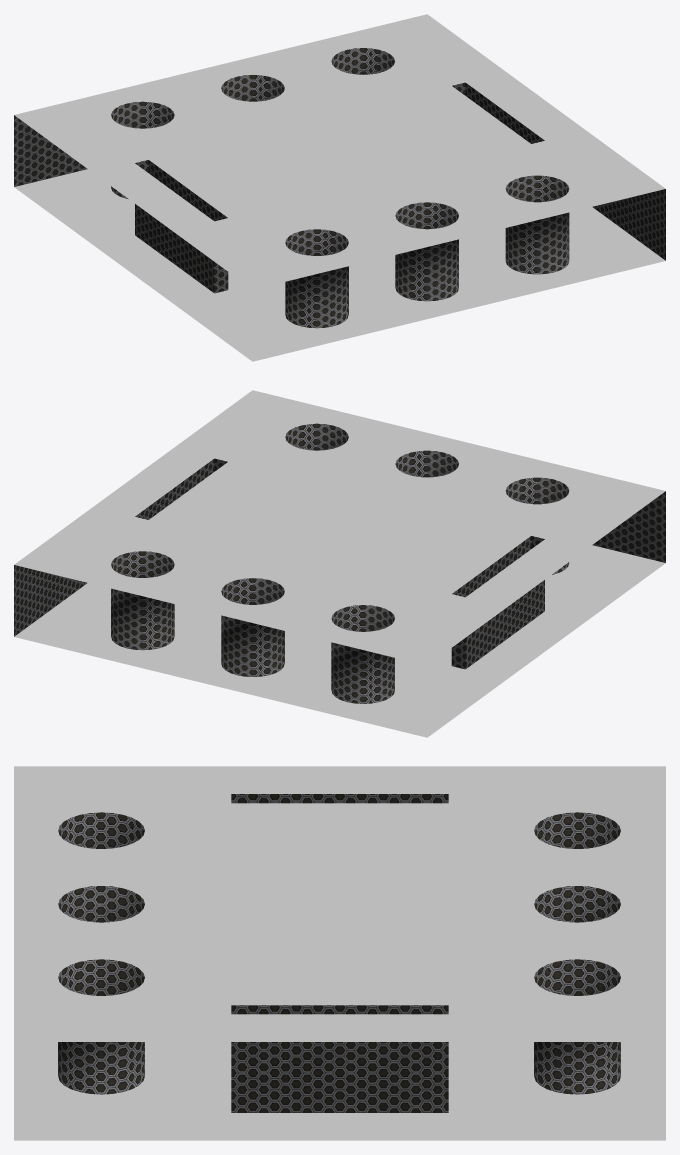
Rendered from room-2-4.dae.
The picture shows the model from 3 angles, top to bottom: view 1: azimuth 30°, elevation 25°; view 2: azimuth 150°, elevation 25°; view 3: azimuth 270°, elevation 25°; orthographic projection. The views are drawn at different scales.
Visible parts, largest first — view 1: room-col; view 2: room-col; view 3: room-col.
Part boxes in pixels (x1=…): room-col: x1=14, y1=14, x2=665, y2=361; room-col: x1=14, y1=390, x2=665, y2=737; room-col: x1=14, y1=766, x2=665, y2=1140.
Size of what is drawn, in the model's own units: 60 by 60 by 10.
